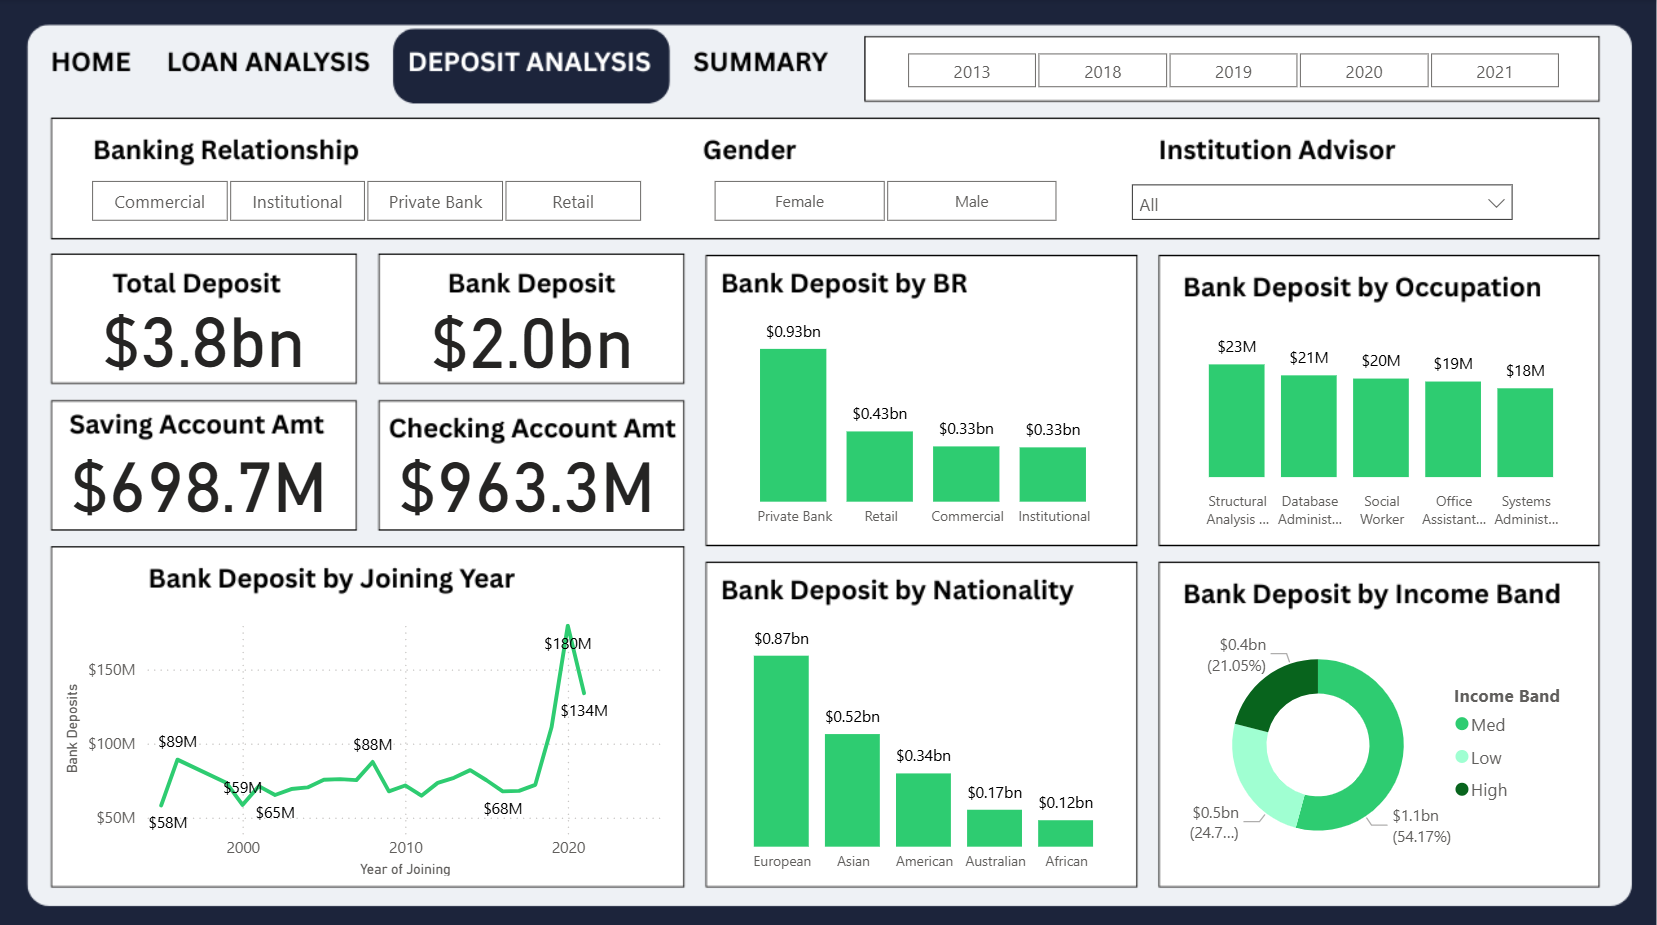

Layout of this report page (visuals, bound fields, positions):
{"tool":"powerbi","page":{"name":"Deposit Analysis","canvas":[1280,720],"ordinal":2},"visuals":[{"type":"actionButton","box":[25.5,29,88.1,53.3],"z":0},{"type":"actionButton","box":[526.1,29,128.6,53.3],"z":1000},{"type":"slicer","fields":{"Values":["banking_case banking.Year of Joining"]},"box":[675.5,34.8,552.7,40.6],"z":2000},{"type":"card","fields":{"Values":["Measure.Total Deposit"]},"box":[53.3,215.5,207.4,84.6],"z":3000},{"type":"card","fields":{"Values":["Sum(banking_case banking.Saving Accounts)"]},"box":[45.2,334.9,215.5,69.5],"z":4000},{"type":"card","fields":{"Values":["Sum(banking_case banking.Bank Deposits)"]},"box":[325.6,223.6,170.3,69.5],"z":5000},{"type":"card","fields":{"Values":["Sum(banking_case banking.Checking Accounts)"]},"box":[301.3,334.9,209.7,69.5],"z":6000},{"type":"donutChart","fields":{"Category":["banking_case banking.Income Band"],"Y":["Sum(banking_case banking.Bank Deposits)"]},"box":[907.3,469.3,321,213.2],"z":7000},{"type":"clusteredColumnChart","fields":{"Category":["banking_case banking.BRId"],"Y":["Sum(banking_case banking.Bank Deposits)"]},"box":[555,234.1,317.5,181.9],"z":8000},{"type":"clusteredColumnChart","fields":{"Category":["banking_case banking.Nationality"],"Y":["Sum(banking_case banking.Bank Deposits)"]},"box":[555,469.3,317.5,213.2],"z":9000},{"type":"clusteredColumnChart","fields":{"Y":["Sum(banking_case banking.Bank Deposits)"],"Category":["banking_case banking.Occupation"]},"box":[899.2,243.3,329.1,172.7],"z":10000},{"type":"slicer","fields":{"Values":["banking_case banking.BRId"]},"box":[45.2,133.3,473.9,45.2],"z":11000},{"type":"slicer","fields":{"Values":["banking_case banking.GenderId"]},"box":[526.1,133.3,314,45.2],"z":12000},{"type":"slicer","fields":{"Values":["banking_case banking.IAId"]},"box":[864.4,133.3,314,45.2],"z":13000},{"type":"actionButton","box":[122.8,20.9,170.3,61.4],"z":14000},{"type":"lineChart","fields":{"Category":["banking_case banking.Year of Joining"],"Y":["Sum(banking_case banking.Bank Deposits)"]},"box":[45.2,469.3,473.9,213.2],"z":15000}]}

Visuals, with their boxes in screenshot pixels (x1, y1, x2, y2), scaled from the page's 1280x720 canvas onto the 1657x925 screenshot:
actionButton: crop(33, 37, 147, 106)
actionButton: crop(681, 37, 848, 106)
slicer - banking_case banking.Year of Joining: crop(874, 45, 1590, 97)
card - Measure.Total Deposit: crop(69, 277, 337, 386)
card - Sum(banking_case banking.Saving Accounts): crop(59, 430, 337, 520)
card - Sum(banking_case banking.Bank Deposits): crop(421, 287, 642, 377)
card - Sum(banking_case banking.Checking Accounts): crop(390, 430, 662, 520)
donutChart - banking_case banking.Income Band x Sum(banking_case banking.Bank Deposits): crop(1175, 603, 1590, 877)
clusteredColumnChart - banking_case banking.BRId x Sum(banking_case banking.Bank Deposits): crop(718, 301, 1129, 534)
clusteredColumnChart - banking_case banking.Nationality x Sum(banking_case banking.Bank Deposits): crop(718, 603, 1129, 877)
clusteredColumnChart - Sum(banking_case banking.Bank Deposits) x banking_case banking.Occupation: crop(1164, 313, 1590, 534)
slicer - banking_case banking.BRId: crop(59, 171, 672, 229)
slicer - banking_case banking.GenderId: crop(681, 171, 1088, 229)
slicer - banking_case banking.IAId: crop(1119, 171, 1525, 229)
actionButton: crop(159, 27, 379, 106)
lineChart - banking_case banking.Year of Joining x Sum(banking_case banking.Bank Deposits): crop(59, 603, 672, 877)
